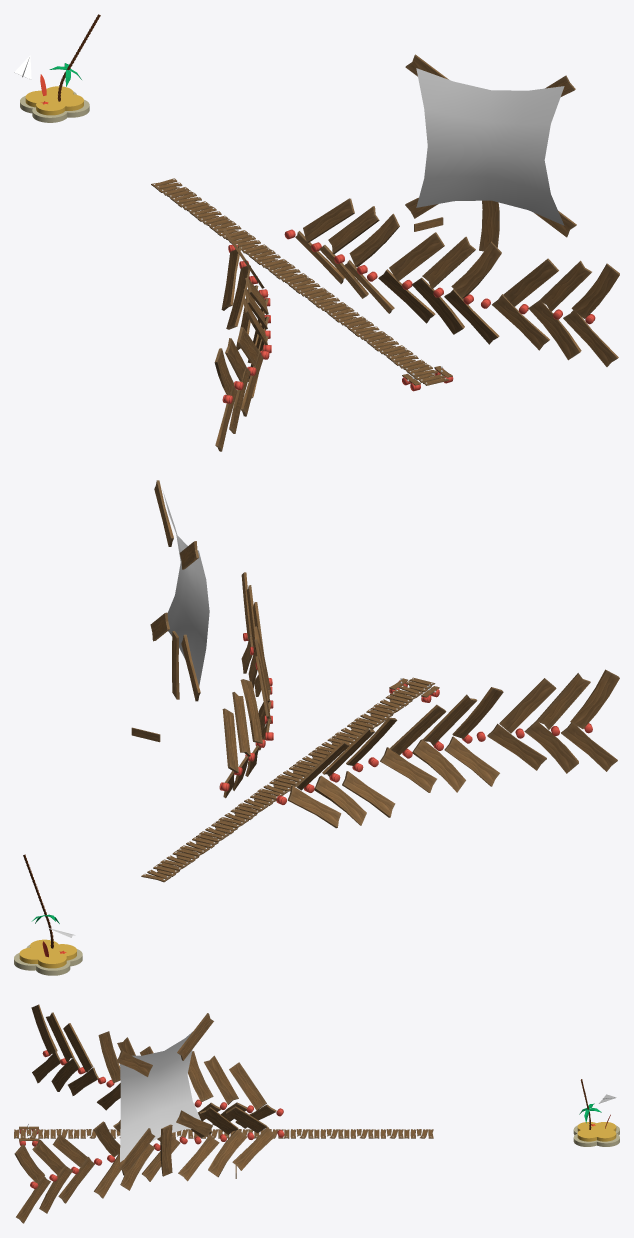
The model's file is SNUH_Scene.fbx.
3 views of the same model, one above another, from view 1: azimuth 30°, elevation 25°; view 2: azimuth 150°, elevation 25°; view 3: azimuth 270°, elevation 25° (orthographic). The views are drawn at different scales.
Visible parts, largest first — view 1: Plane.002, Cube, BezierCircle.000, Cube.027, Cube.017, Cube.018, Cube.029, Cube.030, Cube.016, Cube.031, Cube.028, Cube.026 (+10 smaller); view 2: Cube, Plane.002, BezierCircle.000, Cube.023, Cube.024, Cube.021, Cube.022, Cube.005, Cube.025, Cube.049, Cube.001, Cube.020 (+9 smaller); view 3: Plane.002, Cube, BezierCircle.000, Cube.043, Cube.052, Cube.050, Cube.008, Cube.042, Cube.047, Cube.051, Cube.037, Cube.039 (+22 smaller).
Part boxes in pixels (<box>): Plane.002: <box>416,68,564,225</box>; Cube: <box>151,178,449,385</box>; BezierCircle.000: <box>25,86,83,115</box>; Cube.027: <box>528,300,581,360</box>; Cube.017: <box>451,241,501,298</box>; Cube.018: <box>389,232,444,281</box>; Cube.029: <box>571,263,619,318</box>; Cube.030: <box>503,258,558,306</box>; Cube.016: <box>422,236,475,288</box>; Cube.031: <box>492,294,549,350</box>; Cube.028: <box>539,260,591,311</box>; Cube.026: <box>563,310,618,366</box>; Cube: <box>141,677,435,882</box>; Plane.002: <box>162,490,209,686</box>; BezierCircle.000: <box>19,939,76,968</box>; Cube.023: <box>570,669,619,728</box>; Cube.024: <box>499,678,556,733</box>; Cube.021: <box>524,721,578,773</box>; Cube.022: <box>536,673,590,729</box>; Cube.005: <box>412,739,465,792</box>; Cube.025: <box>487,723,546,770</box>; Cube.049: <box>314,775,366,825</box>; Cube.001: <box>444,736,499,786</box>; Cube.020: <box>561,722,617,771</box>; Plane.002: <box>120,1031,200,1162</box>; Cube: <box>14,1129,433,1138</box>; BezierCircle.000: <box>577,1122,616,1141</box>; Cube.043: <box>208,1130,247,1177</box>; Cube.052: <box>229,1062,266,1110</box>; Cube.050: <box>204,1055,238,1104</box>; Cube.008: <box>98,1031,120,1082</box>; Cube.042: <box>178,1135,219,1181</box>; Cube.047: <box>232,1126,276,1170</box>; Cube.051: <box>188,1051,213,1101</box>; Cube.037: <box>160,1124,172,1176</box>; Cube.039: <box>177,1013,213,1060</box>.
Bounding box in the file's own units: 3513 × 1941 × 5763.
